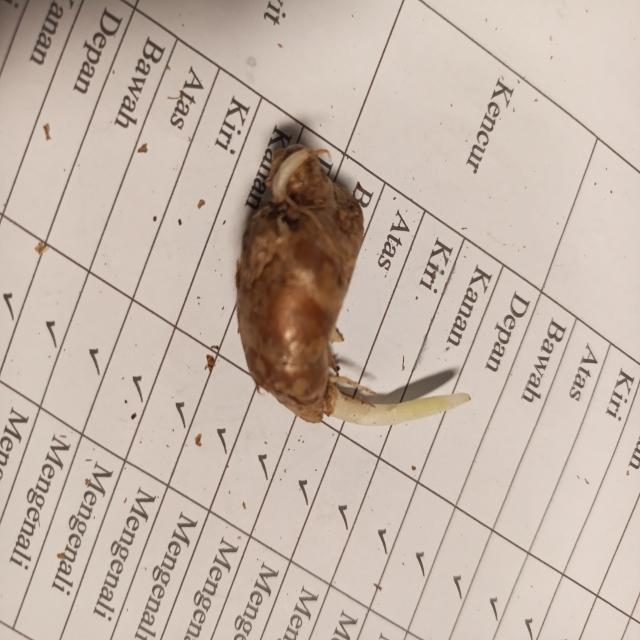ginger: (241, 144, 361, 404)
